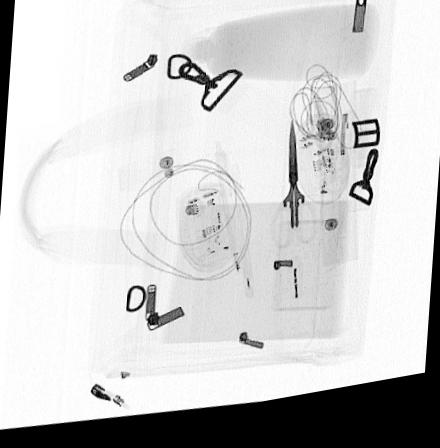Scissors: (266, 128, 319, 260)
